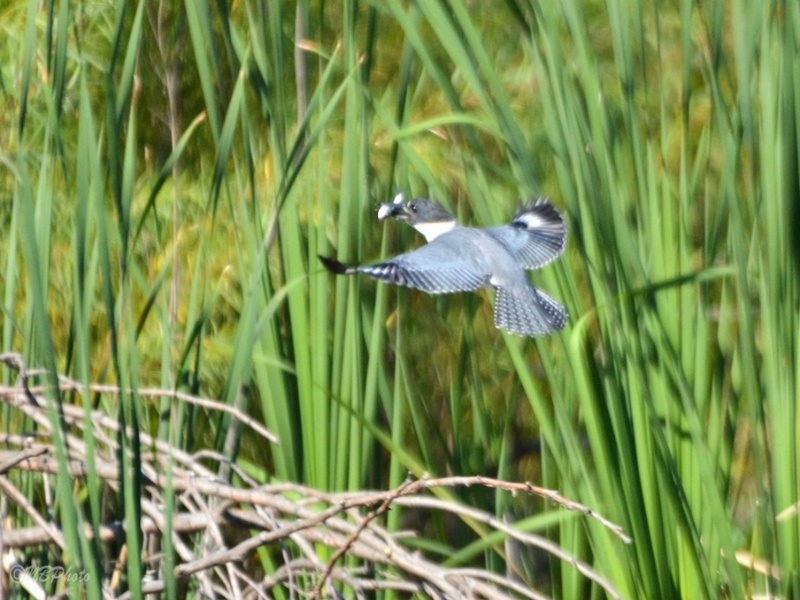kingfisher: (315, 185, 575, 341)
